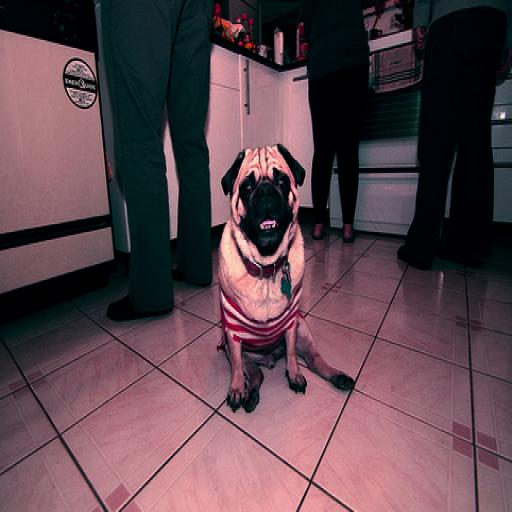dog_face: (217, 142, 308, 258)
